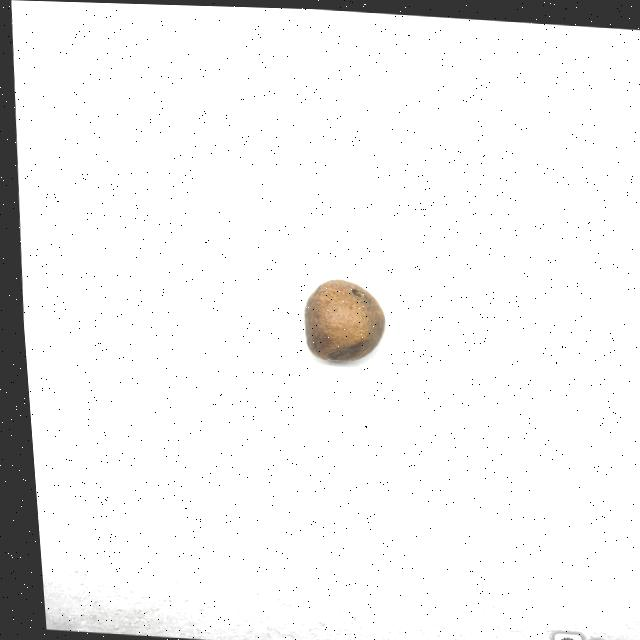Insect damage: (296, 273, 381, 363)
